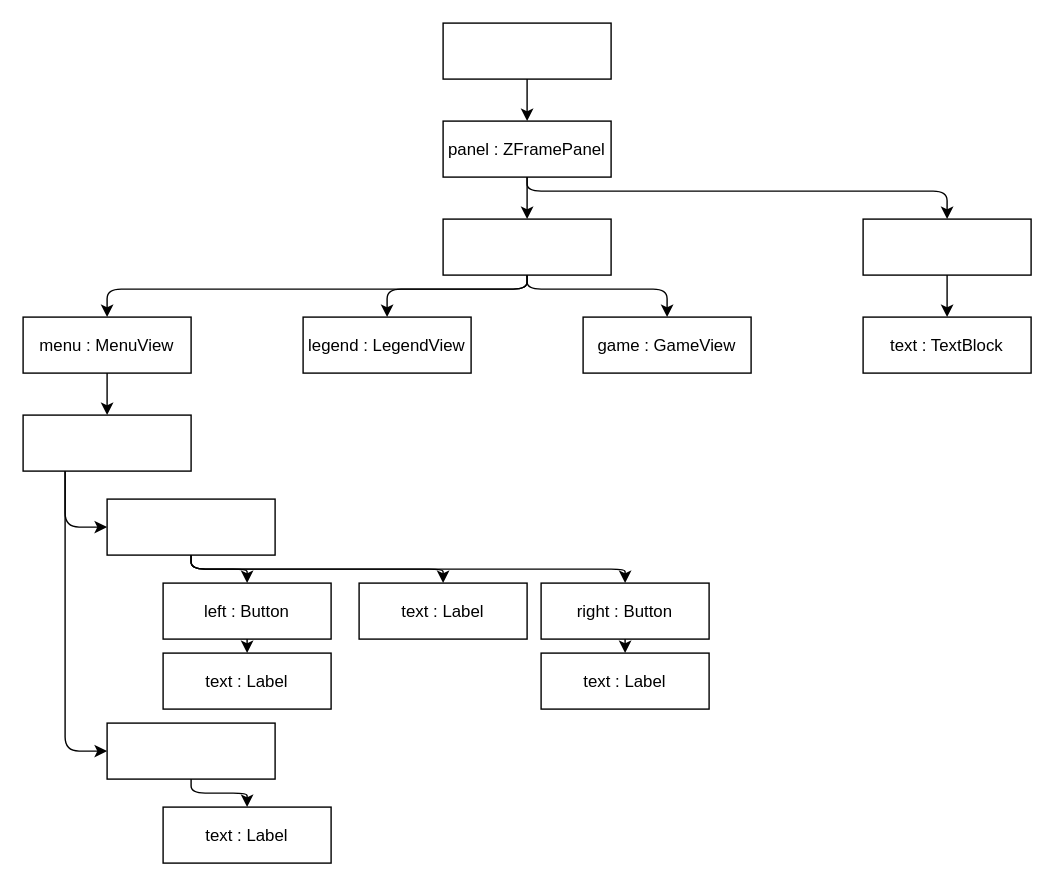
Image size: 1054x886. Some labels were removed from this diagram. The centre of each missing label's shape, as x and y in pixels:
"item1 : Slider" belongs at [190,526].
"item2 : Button" belongs at [190,750].
"items : StackPanel" belongs at [106,442].
"mainView : GridPanel" belongs at [526,246].
"mainWindow : ConsoleWindow" belongs at [526,50].
"rules : ManualView" belongs at [946,246].
